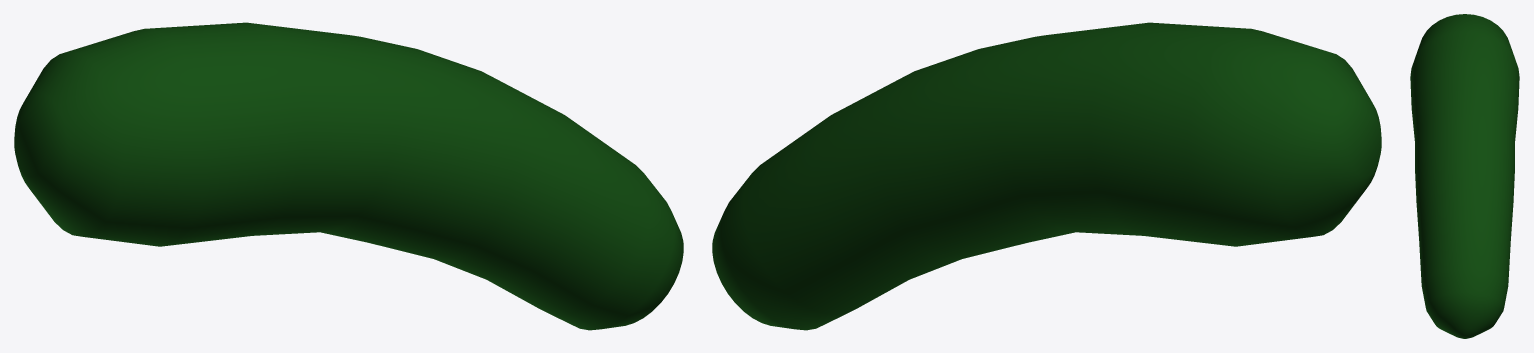
The model's file is cucumber.fbx.
The picture shows the model from 3 angles, left to right: view 1: azimuth 30°, elevation 25°; view 2: azimuth 150°, elevation 25°; view 3: azimuth 270°, elevation 25°; orthographic projection. The views are drawn at different scales.
Visible parts, largest first — view 1: #cucumber; view 2: #cucumber; view 3: #cucumber.
Boxes of the visible parts, x1,y1,x2,y2 form: #cucumber: (14,22,683,330); #cucumber: (712,22,1381,330); #cucumber: (1410,14,1519,338).
Size of the model in its own units: 238 by 138 by 69.73.
Materials: 1 (1 with a texture image).
